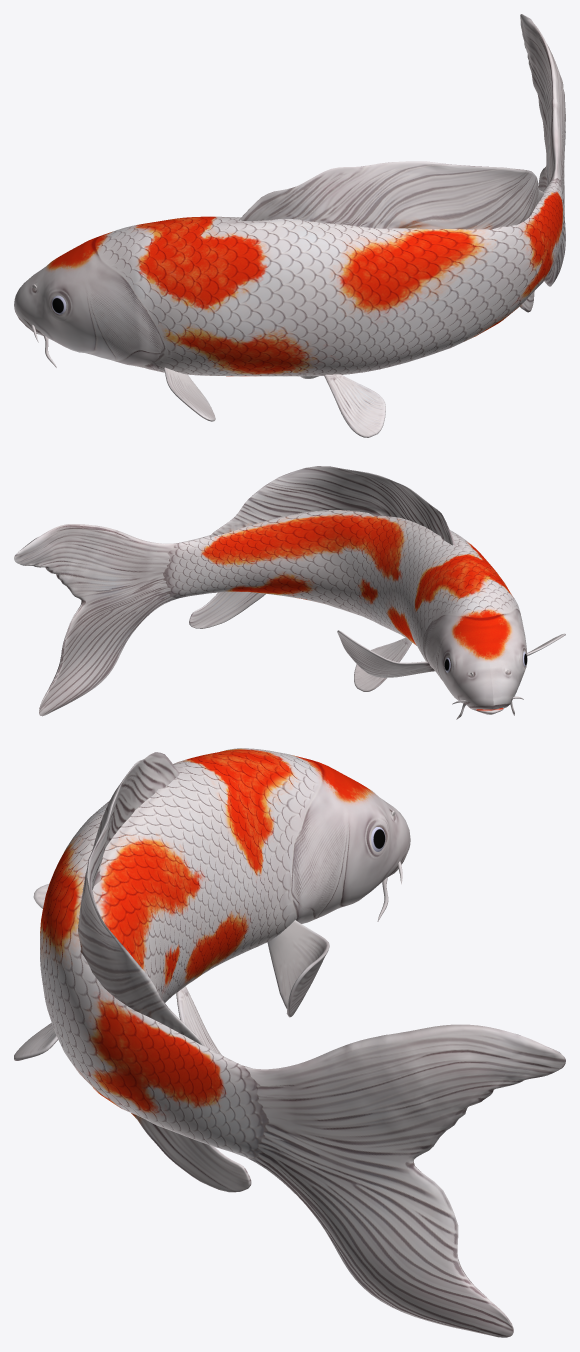
Rendered from fish.glb.
3 views of the same model, one above another, from view 1: azimuth 30°, elevation 25°; view 2: azimuth 150°, elevation 25°; view 3: azimuth 270°, elevation 25° (orthographic). The views are drawn at different scales.
Parts seen in each view (by area): view 1: node_id39_0; view 2: node_id39_0; view 3: node_id39_0.
Boxes of the visible parts, x1,y1,x2,y2 form: node_id39_0: (14, 14, 565, 437); node_id39_0: (14, 466, 565, 719); node_id39_0: (14, 748, 565, 1337).
Bounding box in the file's own units: 0.8877 × 0.4103 × 0.5685.
1 material, 1 textured.
